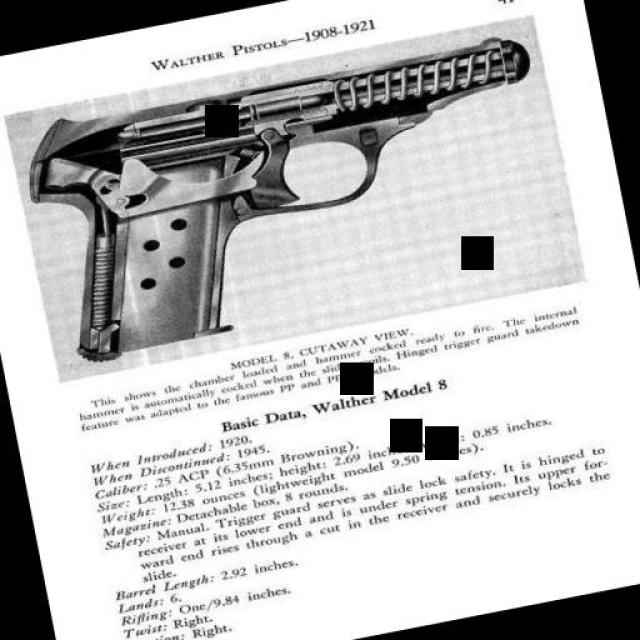gun: (12, 24, 570, 370)
